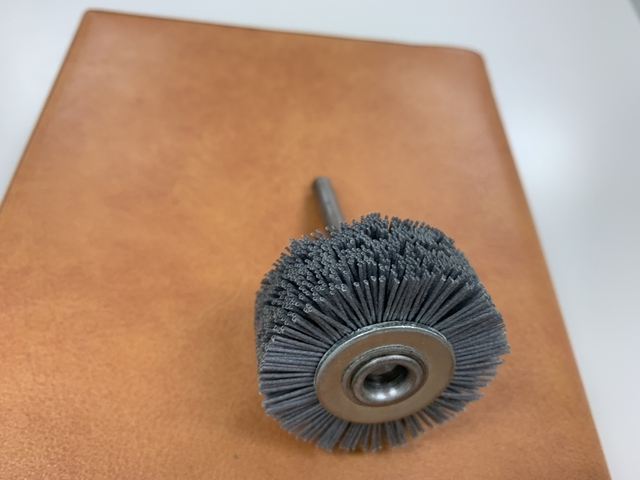Wheel Brush: (229, 171, 497, 440), (246, 171, 498, 451)
